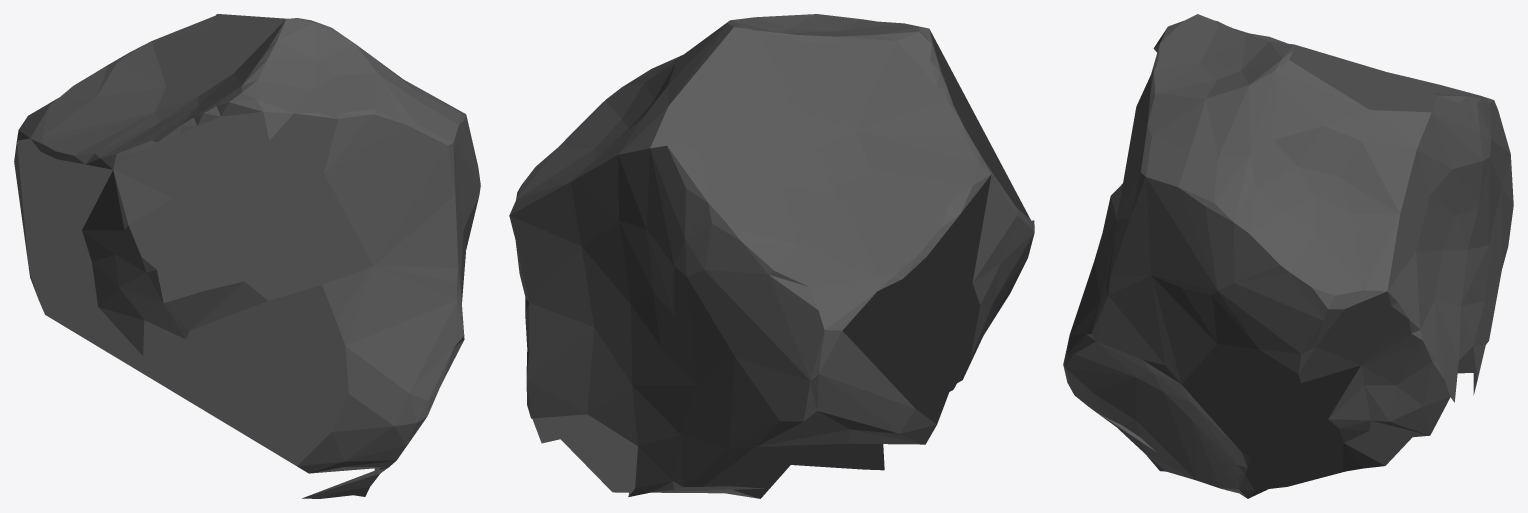
Rendered from rockss.fbx.
3 views of the same model, side by side, from view 1: azimuth 30°, elevation 25°; view 2: azimuth 150°, elevation 25°; view 3: azimuth 270°, elevation 25° (orthographic). The views are drawn at different scales.
Parts seen in each view (by area): view 1: Cube.009; view 2: Cube.009; view 3: Cube.009.
Boxes of the visible parts, box(x1,y1,x2,y2) form: Cube.009: box(14, 14, 480, 498); Cube.009: box(509, 14, 1034, 498); Cube.009: box(1063, 14, 1513, 498).
Bounding box in the file's own units: 21.12 × 21.25 × 21.94.
